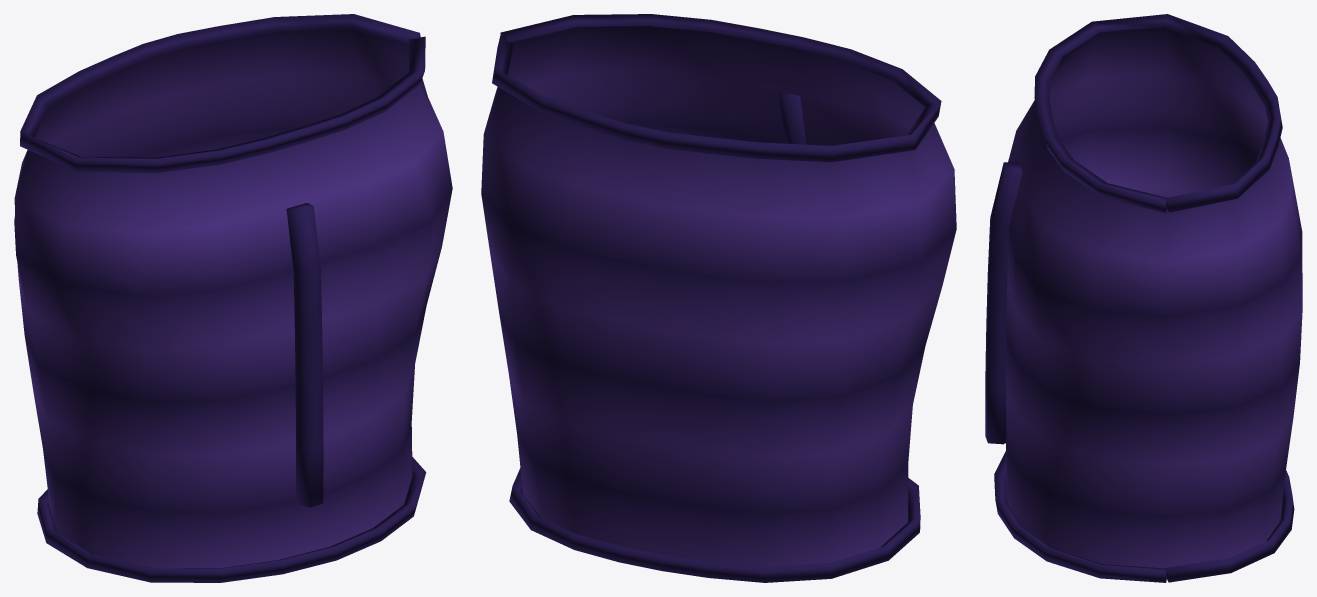
Rendered from beetle_armor_chest.glb.
3 views of the same model, side by side, from view 1: azimuth 30°, elevation 25°; view 2: azimuth 150°, elevation 25°; view 3: azimuth 270°, elevation 25° (orthographic). The views are drawn at different scales.
Visible parts, largest first — view 1: beetle_armor_chest; view 2: beetle_armor_chest; view 3: beetle_armor_chest.
Part boxes in pixels (x1,y1,x2,y2): beetle_armor_chest: (14, 14, 452, 582); beetle_armor_chest: (481, 14, 956, 582); beetle_armor_chest: (985, 14, 1302, 582).
Bounding box in the file's own units: 0.3976 × 0.3857 × 0.2799.
